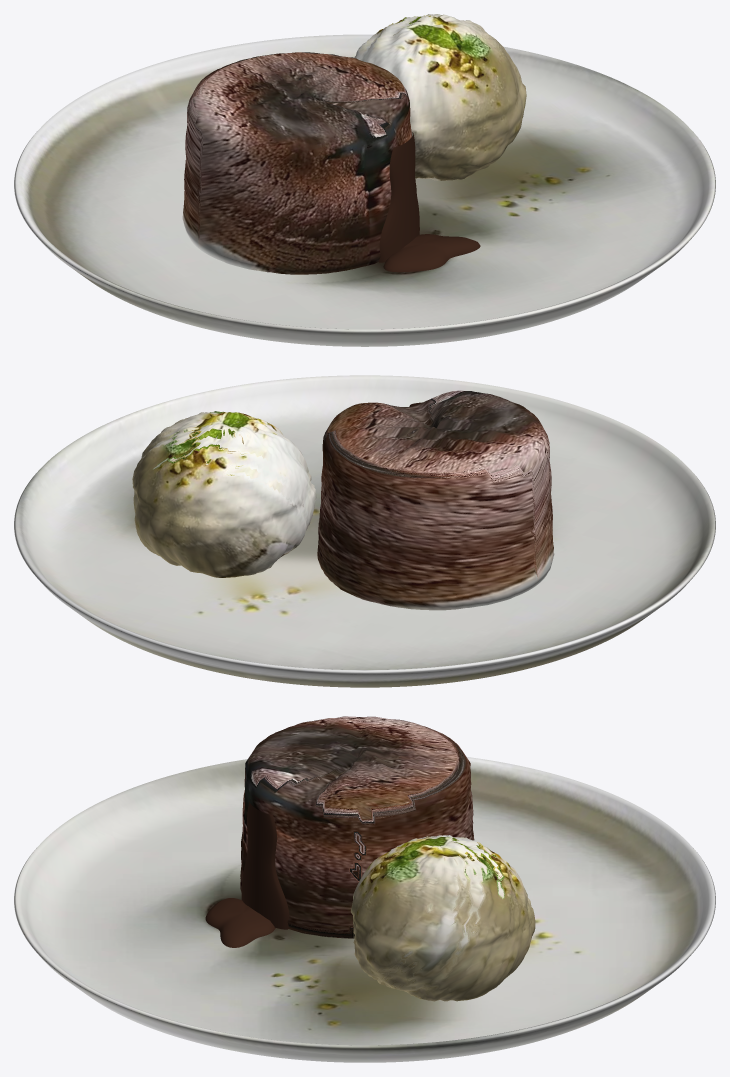
Rendered from petit-gateau.glb.
3 renders of one model, top to bottom at view 1: azimuth 30°, elevation 25°; view 2: azimuth 150°, elevation 25°; view 3: azimuth 270°, elevation 25°, orthographic.
Parts seen in each view (by area): view 1: petit-gateau; view 2: petit-gateau; view 3: petit-gateau.
Boxes of the visible parts, left/top/right/bottom form: petit-gateau: left=14, top=14, right=715, bottom=346; petit-gateau: left=14, top=375, right=715, bottom=687; petit-gateau: left=14, top=716, right=715, bottom=1062.
Bounding box in the file's own units: 0.2113 × 0.0518 × 0.2113.
4 materials, 3 textured.
